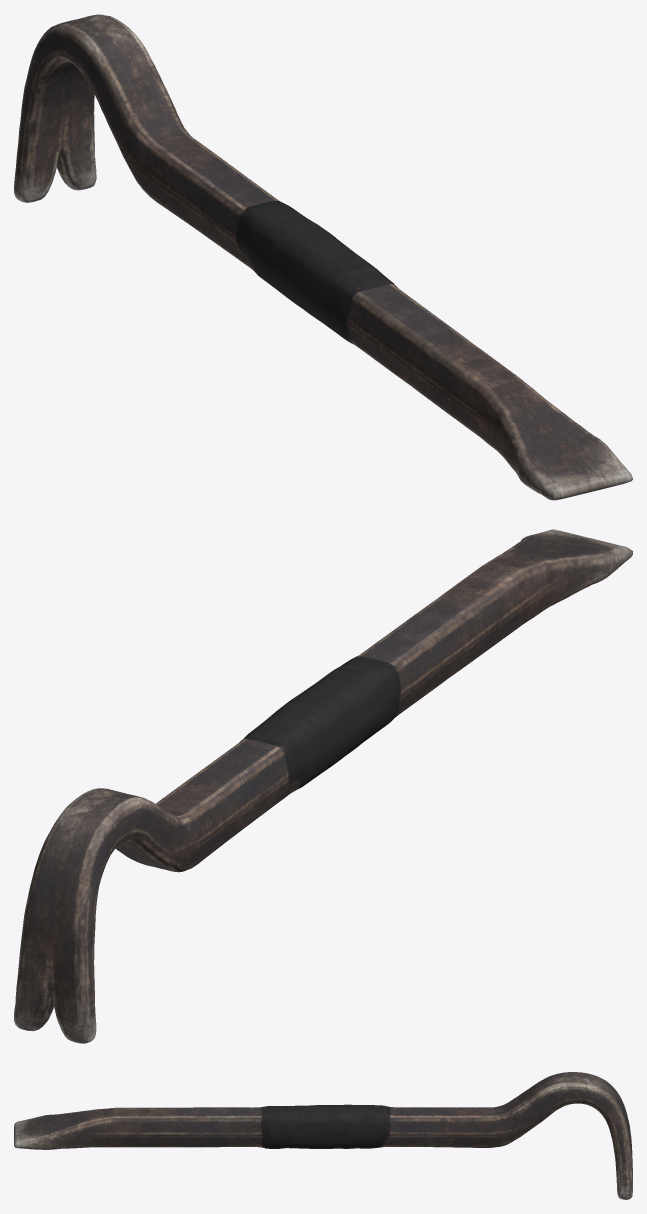
Rendered from prybar.glb.
3 views of the same model, one above another, from view 1: azimuth 30°, elevation 25°; view 2: azimuth 150°, elevation 25°; view 3: azimuth 270°, elevation 25° (orthographic). The views are drawn at different scales.
Visible parts, largest first — view 1: Mesh_0; view 2: Mesh_0; view 3: Mesh_0.
Part boxes in pixels (left/top/right/bottom): Mesh_0: left=14, top=14, right=632, bottom=500; Mesh_0: left=14, top=529, right=632, bottom=1043; Mesh_0: left=14, top=1072, right=632, bottom=1199.
Bounding box in the file's own units: 0.0545 × 0.1219 × 0.6.
1 material, 1 textured.
